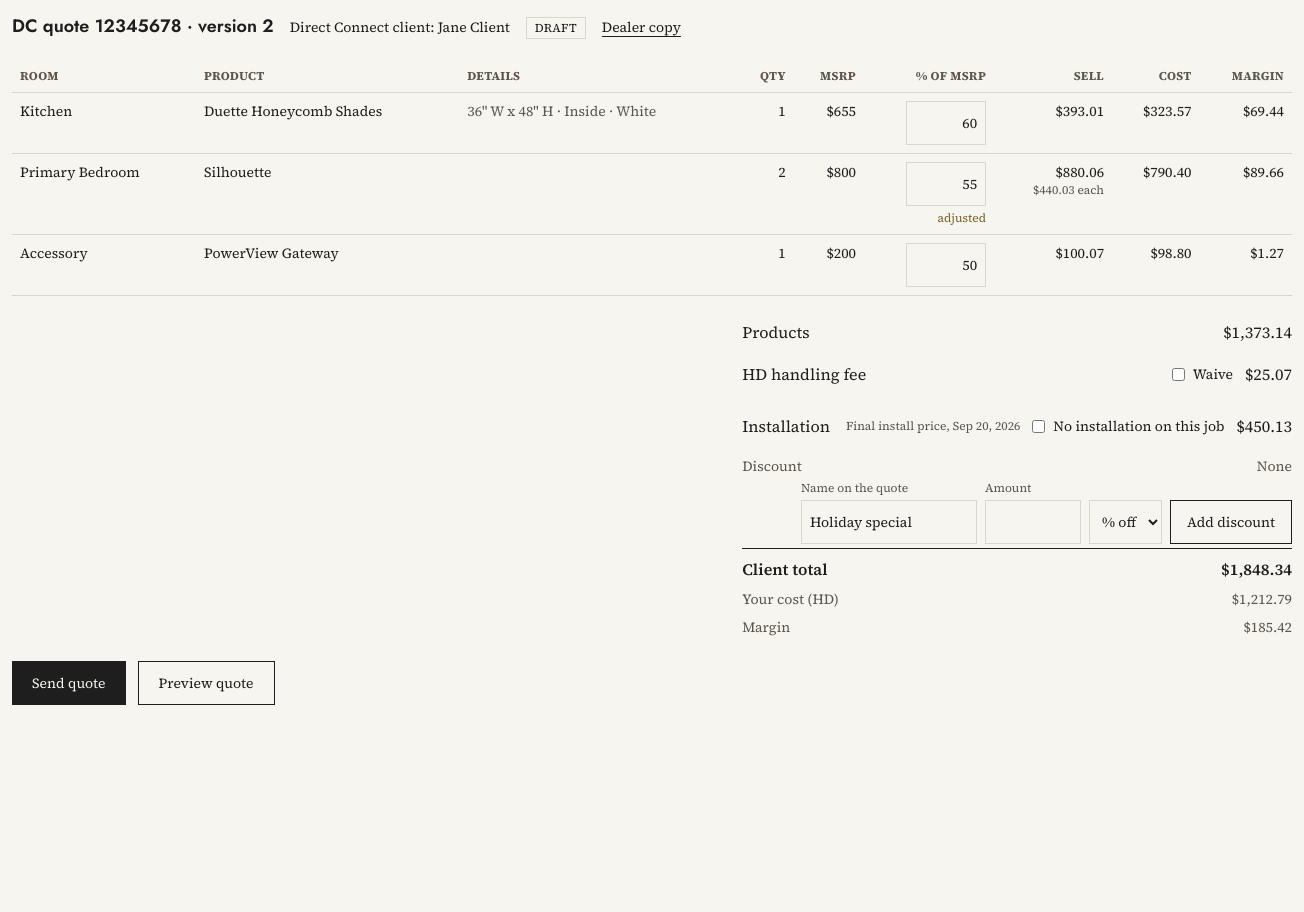
Test: QuoteReview discount › shows the action's refusal
The width and height of the screenshot is (1304, 912).
Type "150" into the field named "Discount amount". click: coordinates (1033, 522)
box: top-left (985, 500), bottom-right (1081, 544)
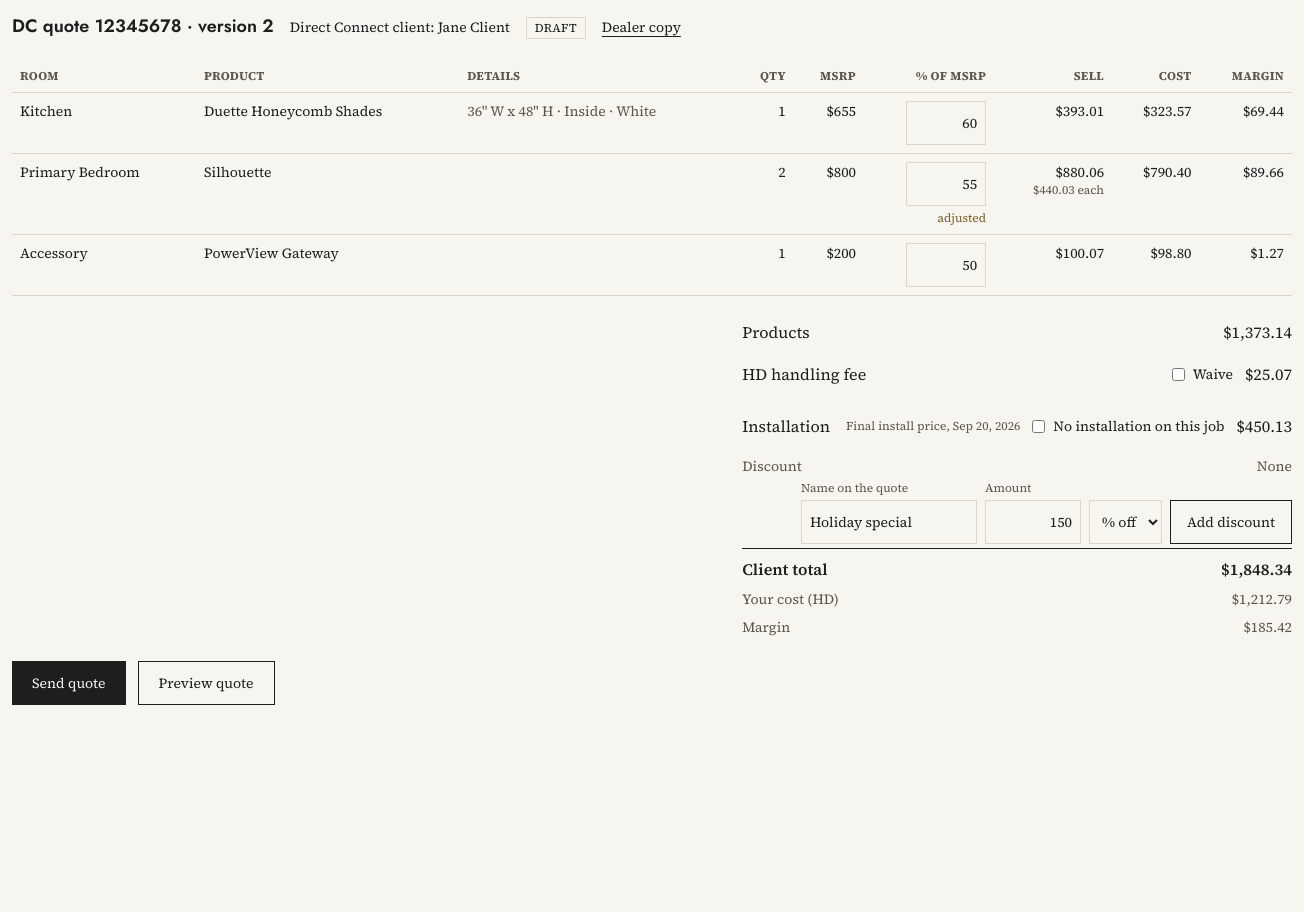
Click the button "Add discount". click: coordinates (1231, 522)
box: top-left (1170, 500), bottom-right (1292, 544)
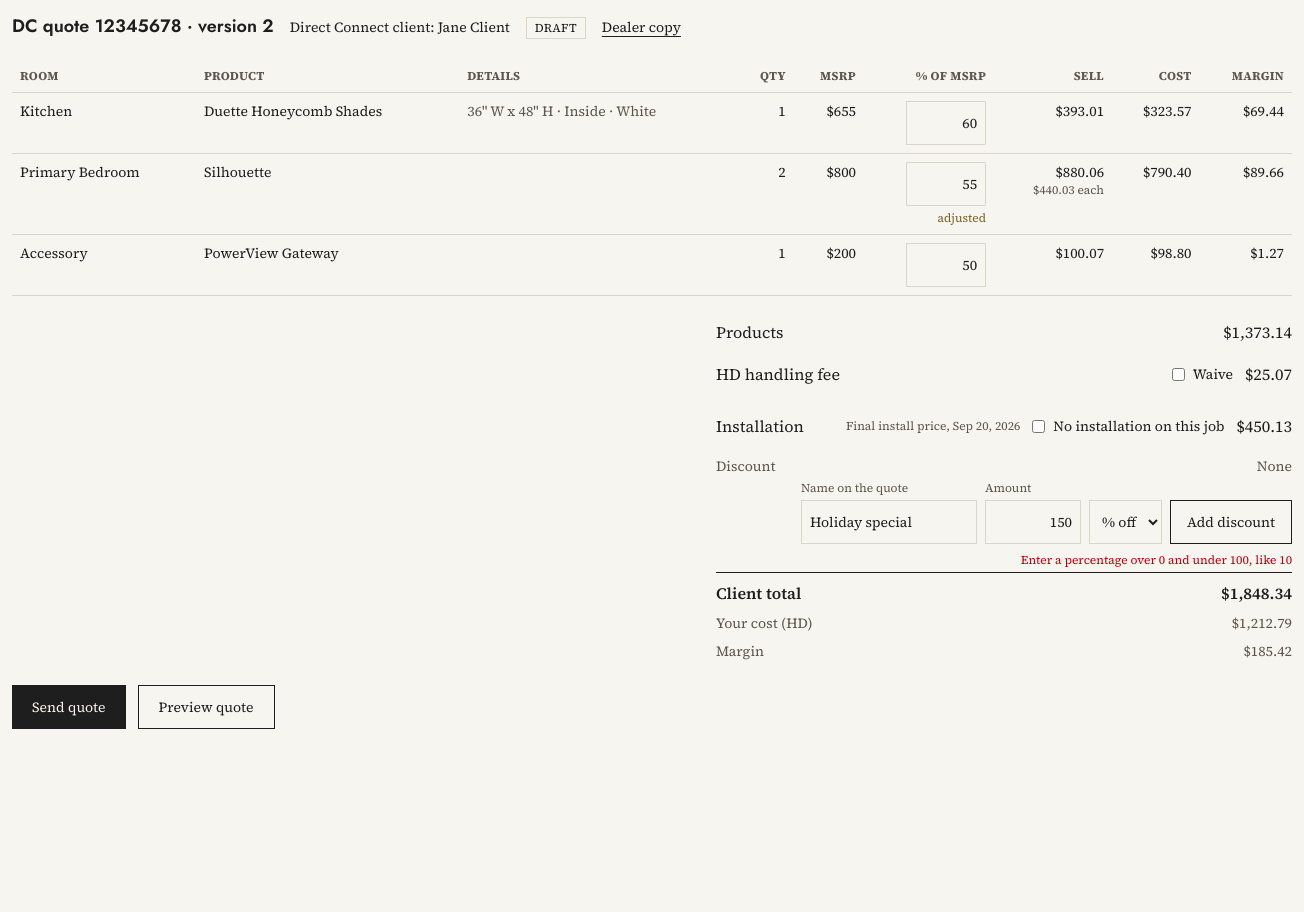
Check: the message shows "Enter a percentage over 0 and under 100", box top-left (1021, 552), bottom-right (1292, 568)
